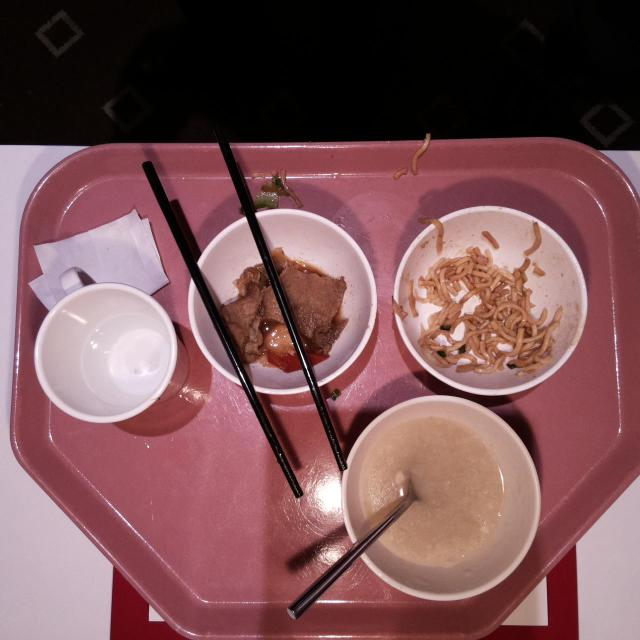Meat: (217, 264, 345, 358)
Noodle: (434, 250, 554, 368)
